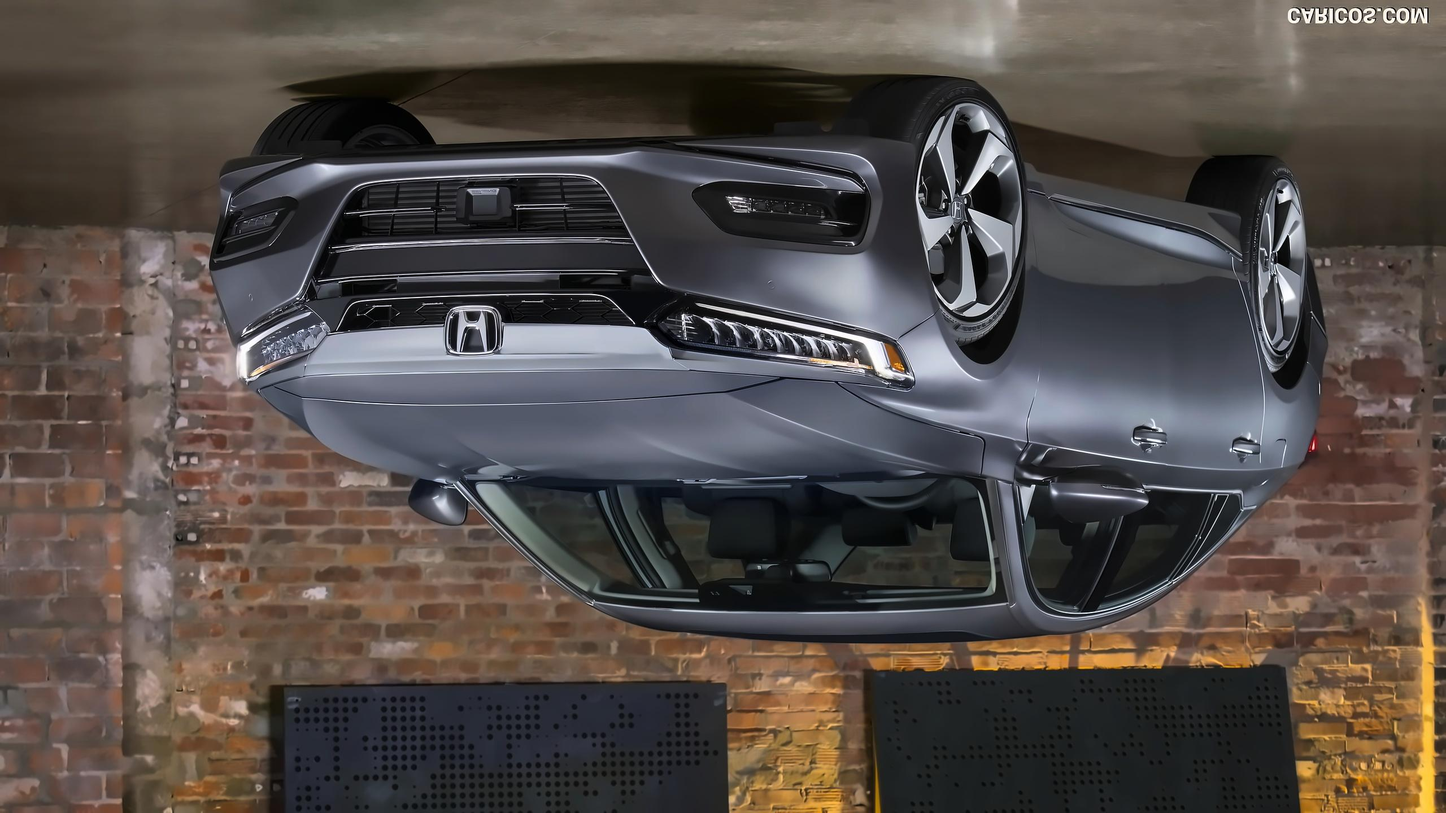Car hood: (237, 367, 991, 491)
Driver-s door - -F-R-: (1025, 196, 1169, 629)
Fender - -F-R-: (837, 175, 1028, 494)
Fender - -R-R-: (1245, 219, 1319, 463)
Front bumper: (194, 125, 948, 313)
Headlight - -L-: (220, 290, 344, 403)
Headlight - -R-: (644, 283, 924, 400)
Passenger-s door - -R-R-: (1143, 199, 1275, 627)
Rear bumper: (1290, 250, 1347, 383)
Rear light - -R-: (1292, 422, 1326, 468)
Side bumper - -R-: (1013, 151, 1249, 265)
Side mirror - -L-: (394, 458, 486, 535)
Side mirror - -R-: (998, 456, 1159, 539)
